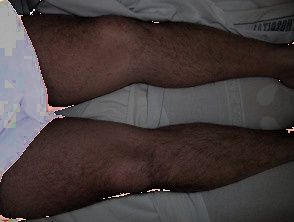SJS-TEN: (0, 99, 294, 222), (18, 6, 294, 109)
